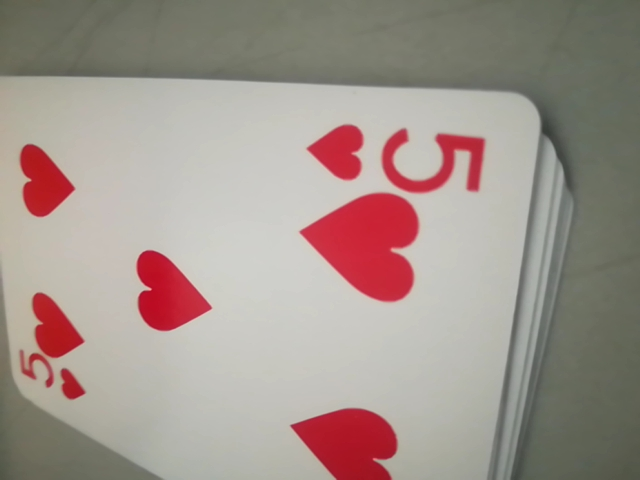hx 5: (302, 114, 491, 196), (14, 352, 87, 408)
